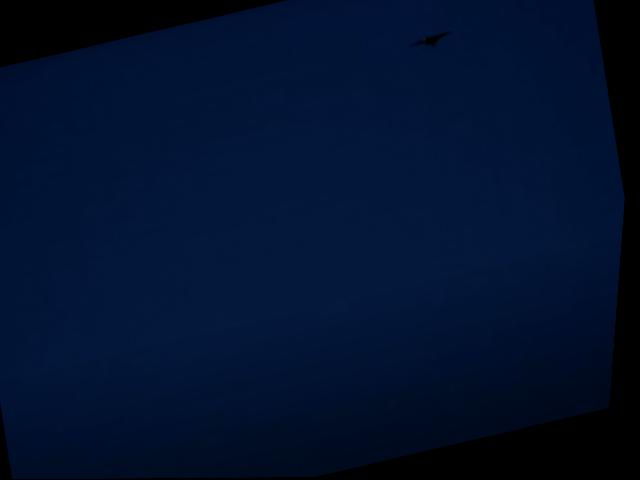iha: (408, 24, 455, 55)
